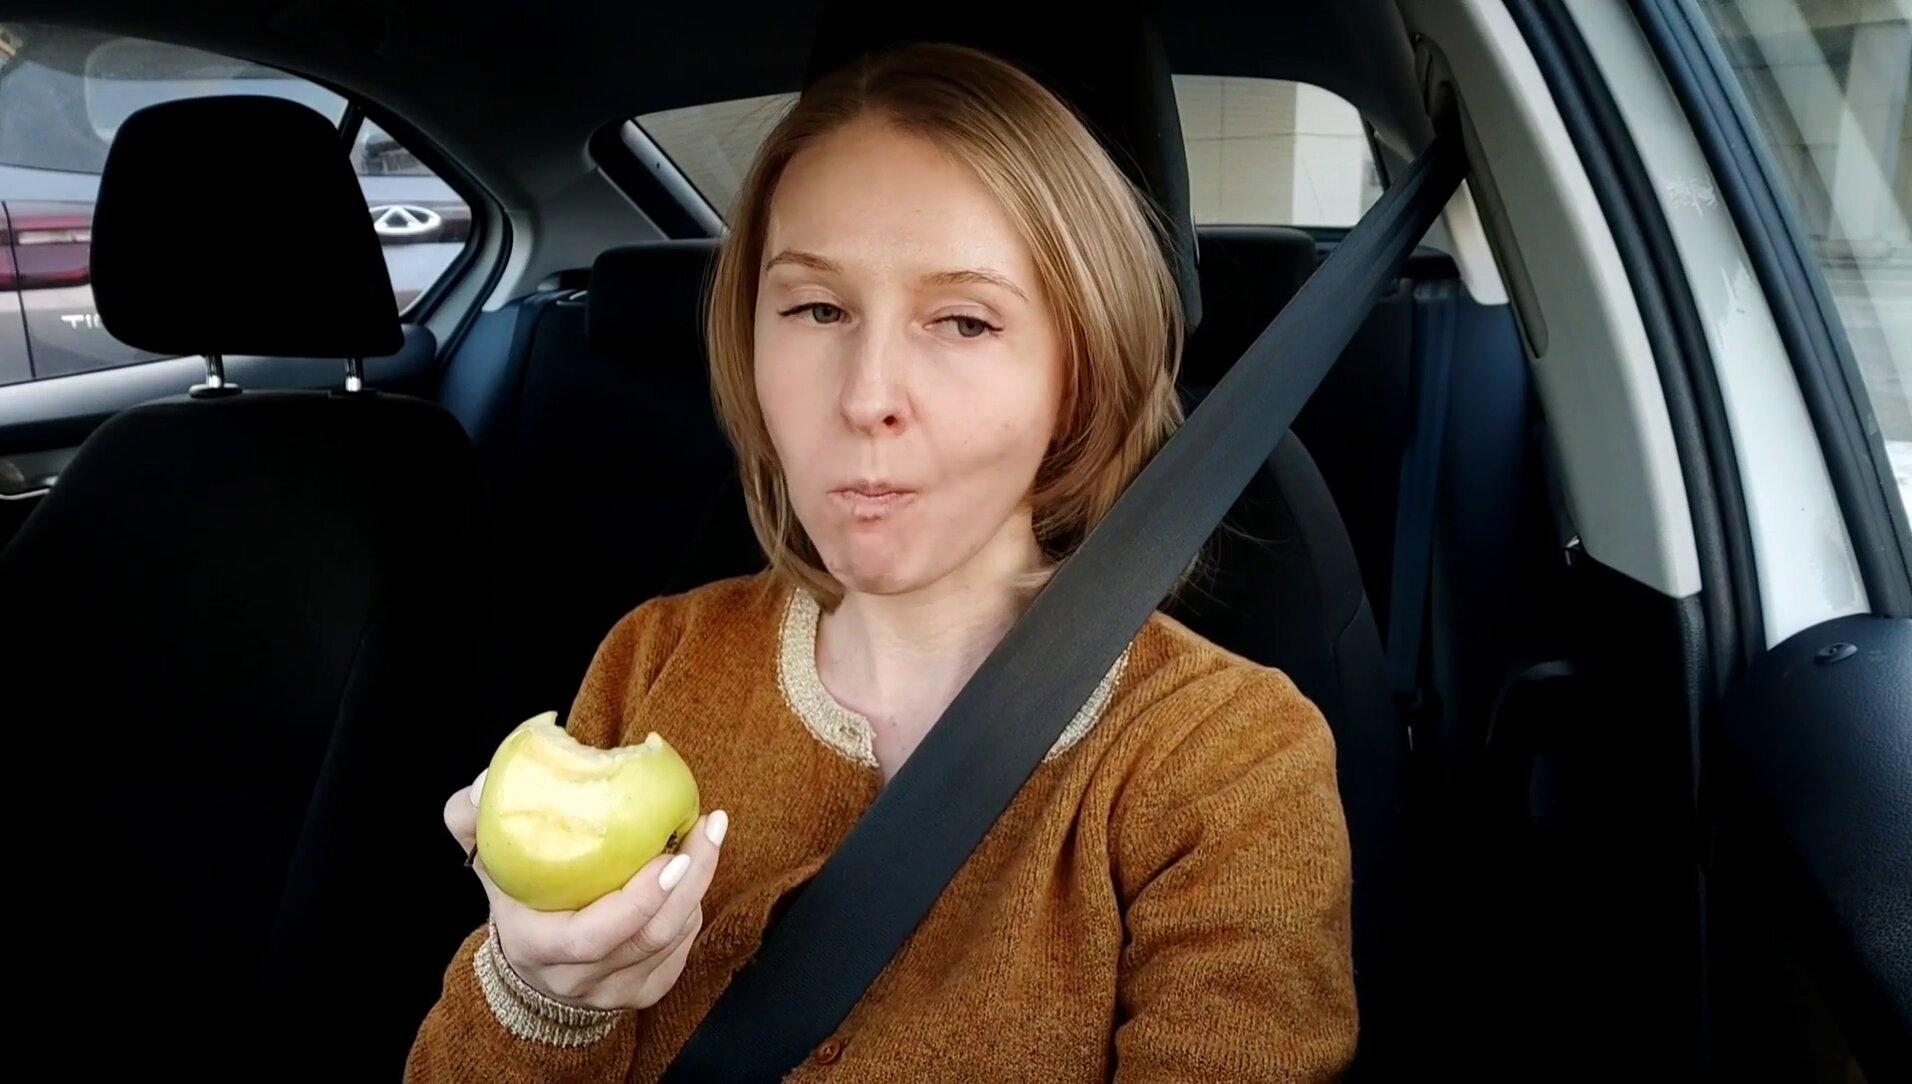Eating: (470, 698, 710, 917)
